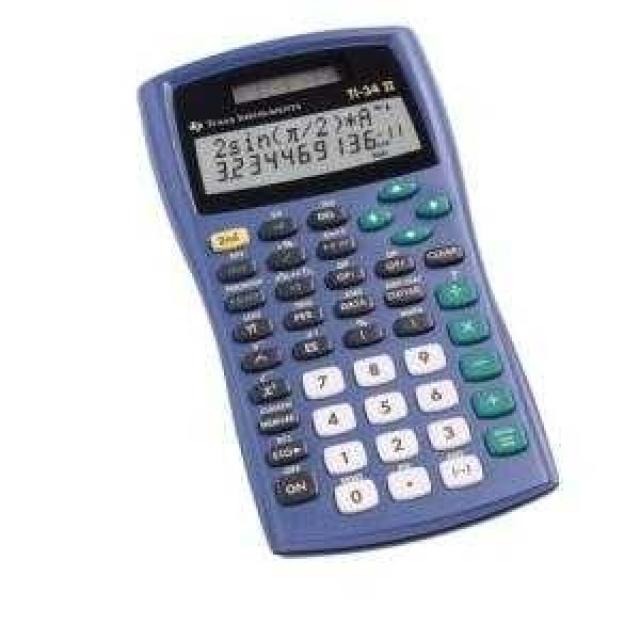Calculator: (134, 23, 561, 557)
